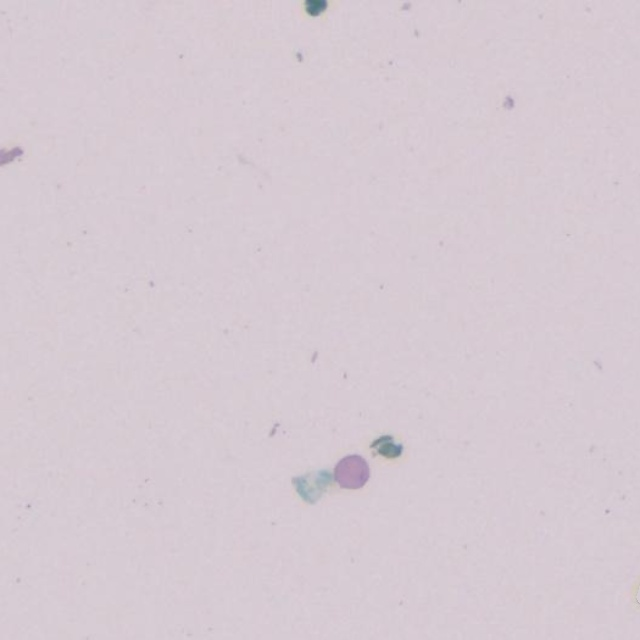intermediate: (334, 455, 369, 489)
non_viable: (305, 0, 327, 16)
